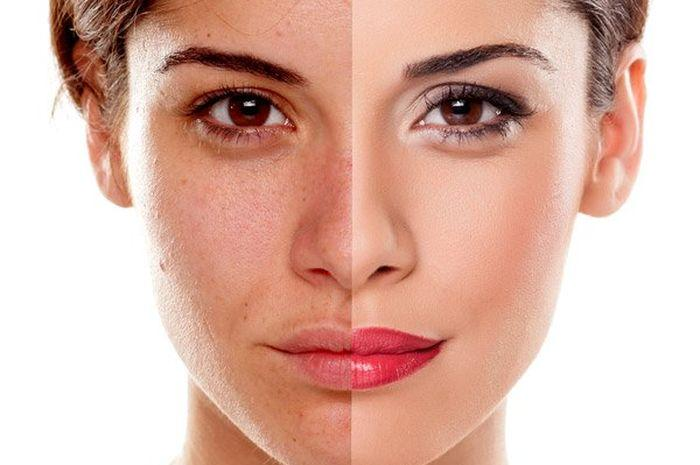Acne: (139, 152, 209, 292)
